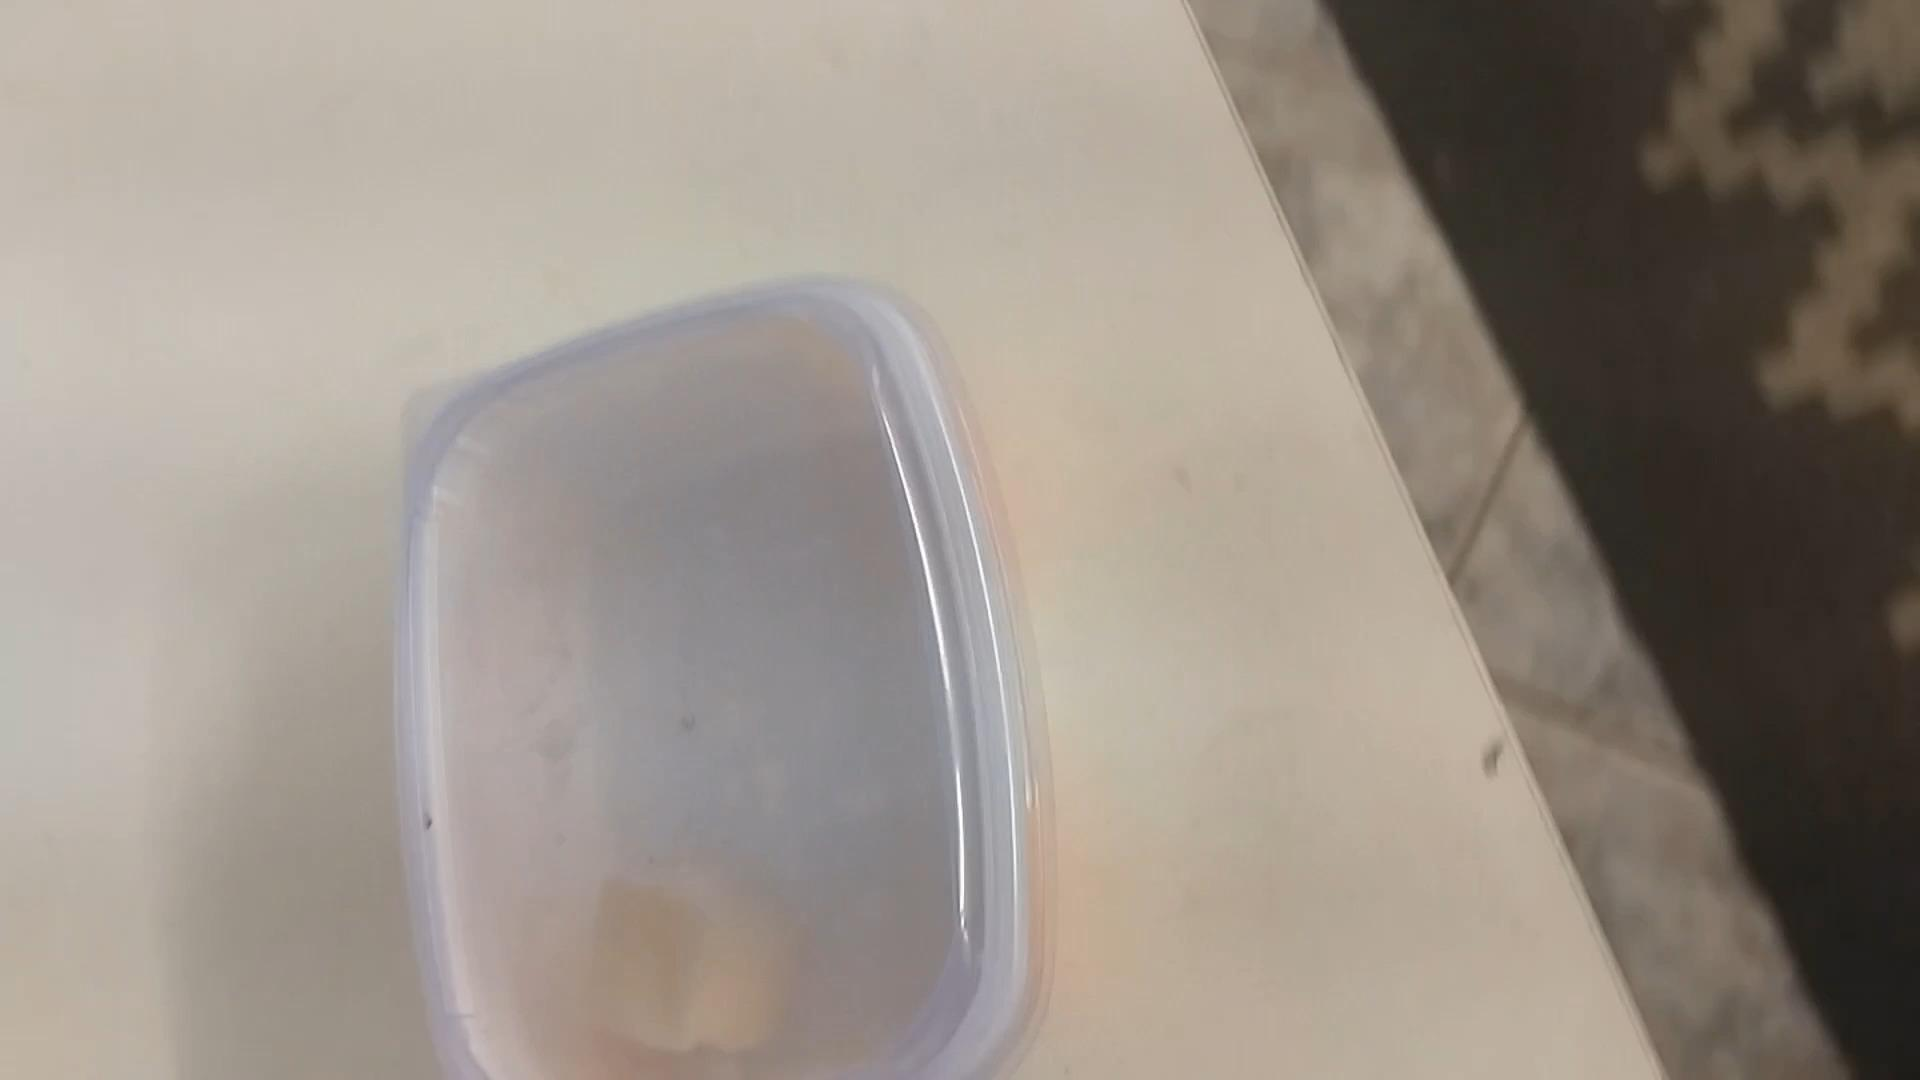butter: (398, 278, 1039, 1080)
